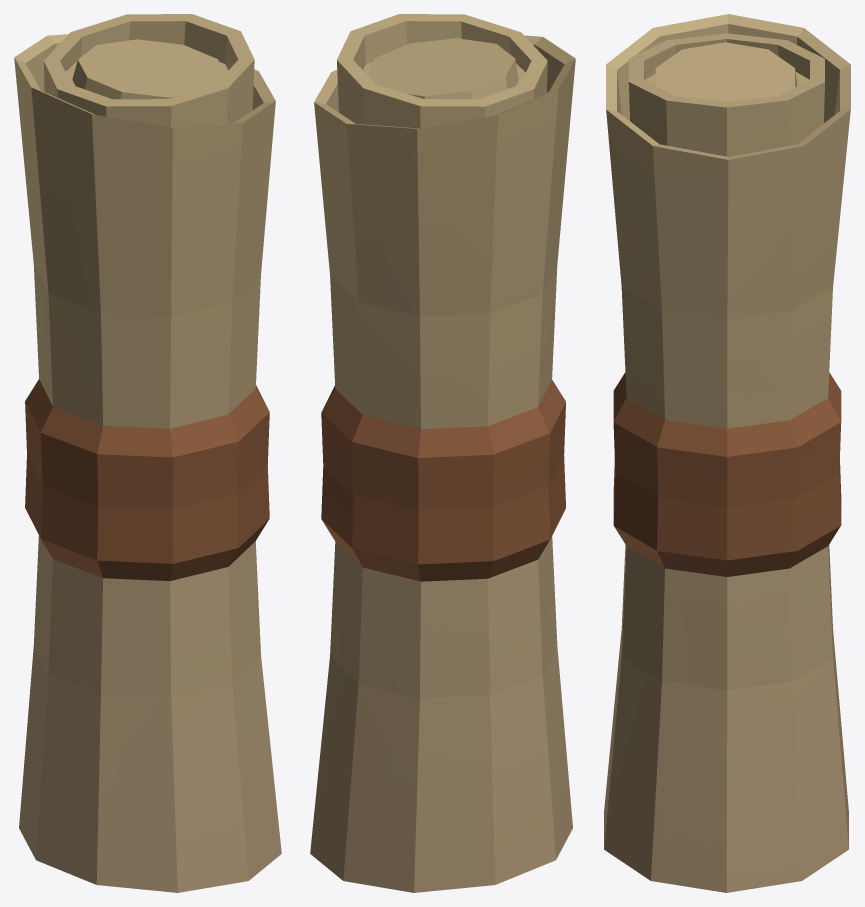
The model's file is Scroll.fbx.
3 views of the same model, side by side, from view 1: azimuth 30°, elevation 25°; view 2: azimuth 150°, elevation 25°; view 3: azimuth 270°, elevation 25° (orthographic). The views are drawn at different scales.
Visible parts, largest first — view 1: Scroll; view 2: Scroll; view 3: Scroll.
Part boxes in pixels (x1=…): Scroll: x1=14, y1=14, x2=281, y2=892; Scroll: x1=310, y1=14, x2=575, y2=892; Scroll: x1=604, y1=14, x2=850, y2=892.
Size of the model in its own units: 6.88 by 22.51 by 6.5.
